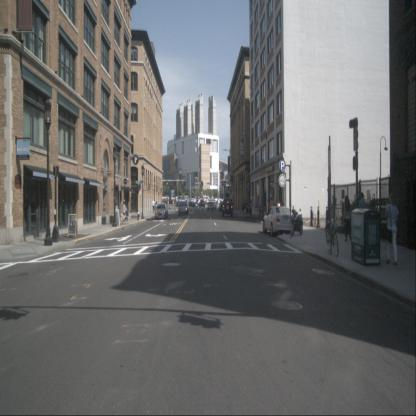cone: (313, 214, 317, 228)
